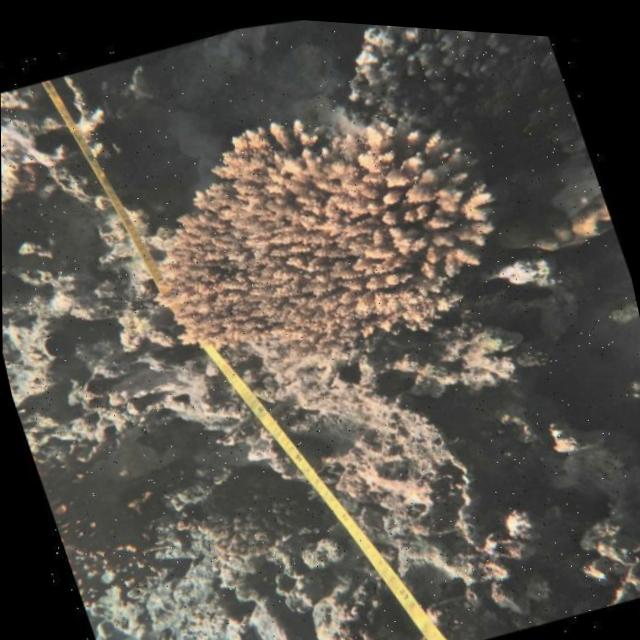Dead Coral: (331, 17, 573, 156)
Healthy Coral: (100, 41, 528, 408), (173, 462, 320, 592)
